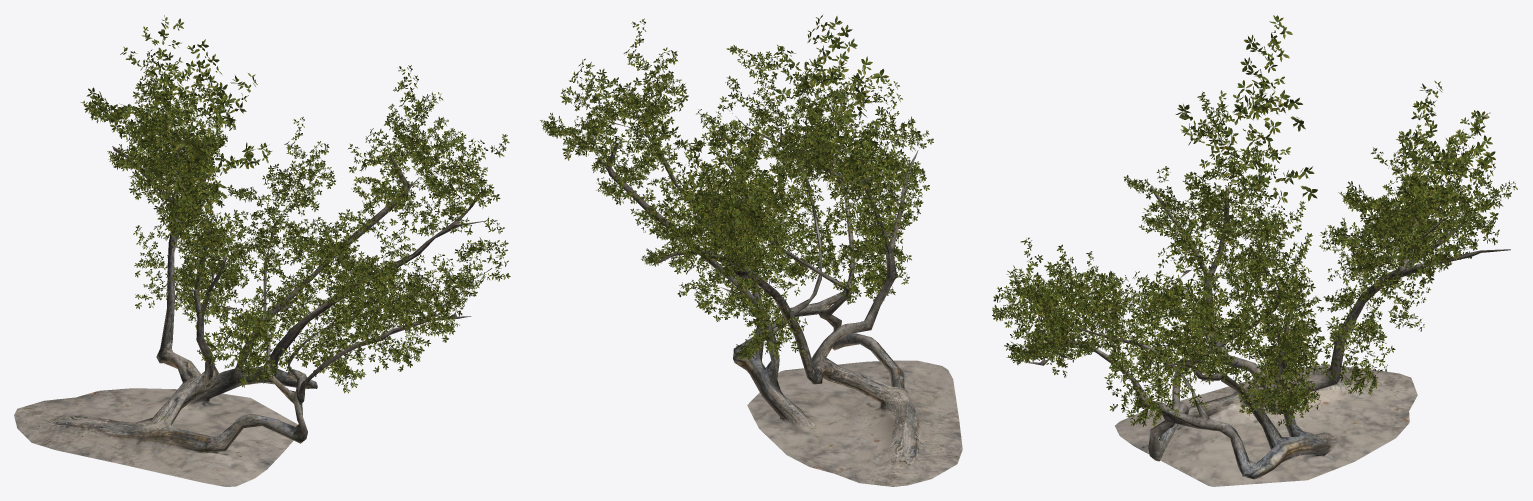
The model's file is island_tree_03_mid.gltf.
3 views of the same model, side by side, from view 1: azimuth 30°, elevation 25°; view 2: azimuth 150°, elevation 25°; view 3: azimuth 270°, elevation 25° (orthographic). The views are drawn at different scales.
Parts seen in each view (by area): view 1: island_tree_03_LOD0; view 2: island_tree_03_LOD0; view 3: island_tree_03_LOD0.
Part boxes in pixels (x1,y1,x2,y2): island_tree_03_LOD0: (14, 15, 510, 486); island_tree_03_LOD0: (540, 15, 962, 486); island_tree_03_LOD0: (992, 15, 1517, 486).
Size of the model in its own units: 2.97 by 2.62 by 2.92.
3 materials, 3 textured.
